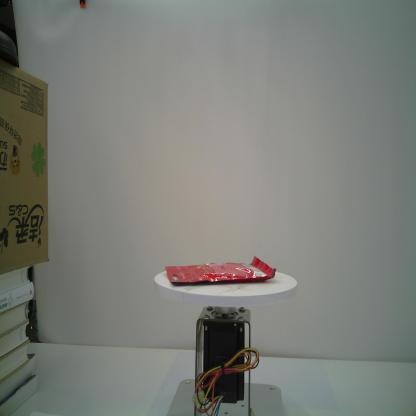Candy: (165, 256, 276, 283)
